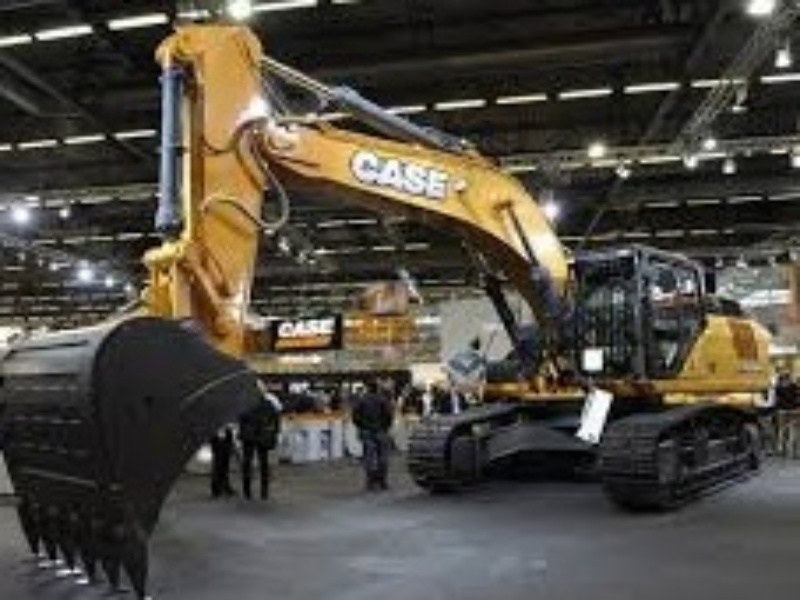wajueji: (414, 160, 781, 521)
